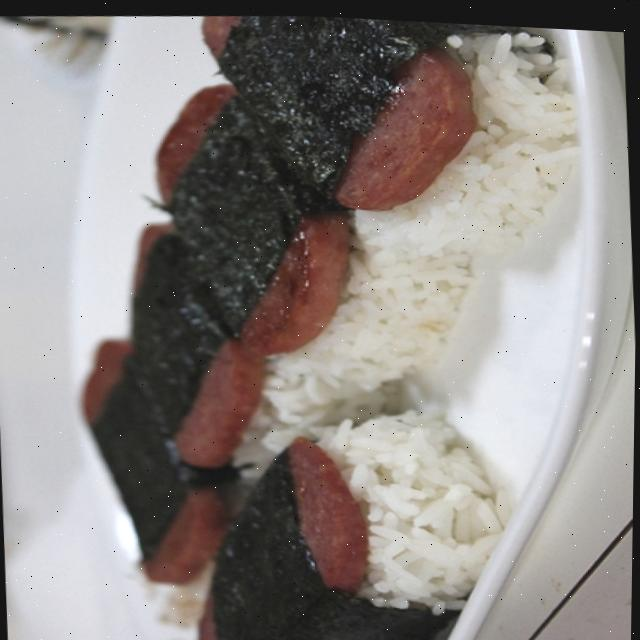寿司卷物: (68, 3, 584, 640)
